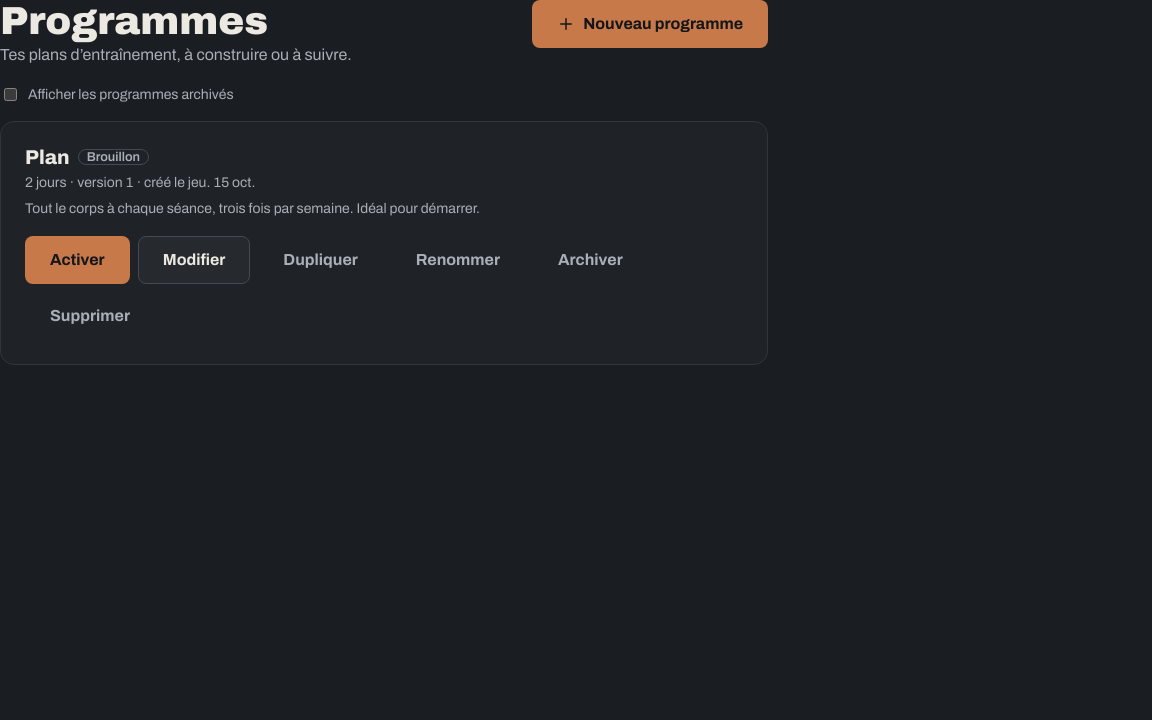
Test: ProgramsView › active un programme et planifie ses séances au calendrier
Click the button "Activer" at (77,260), box left=25, top=236, right=130, bottom=284
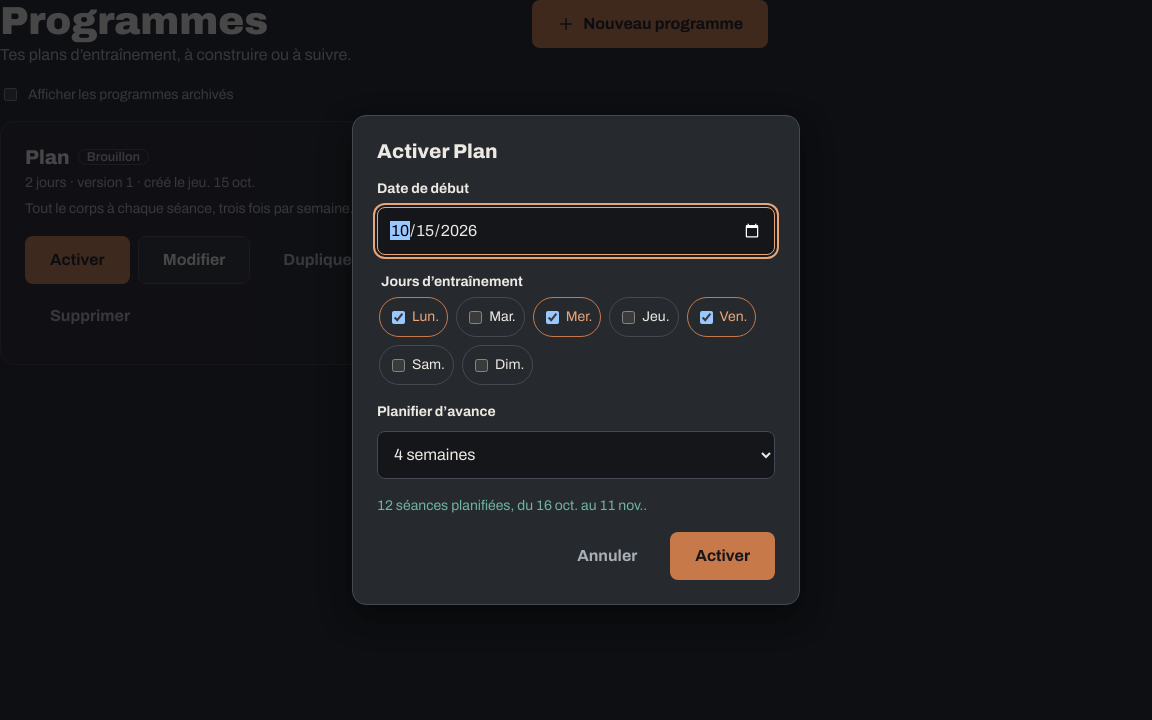
Expected: the dialog is shown, left=352, top=115, right=800, bottom=605
Type "2026-10-19" into the date field labelled "Date de début" at (576,231), box left=377, top=207, right=775, bottom=255
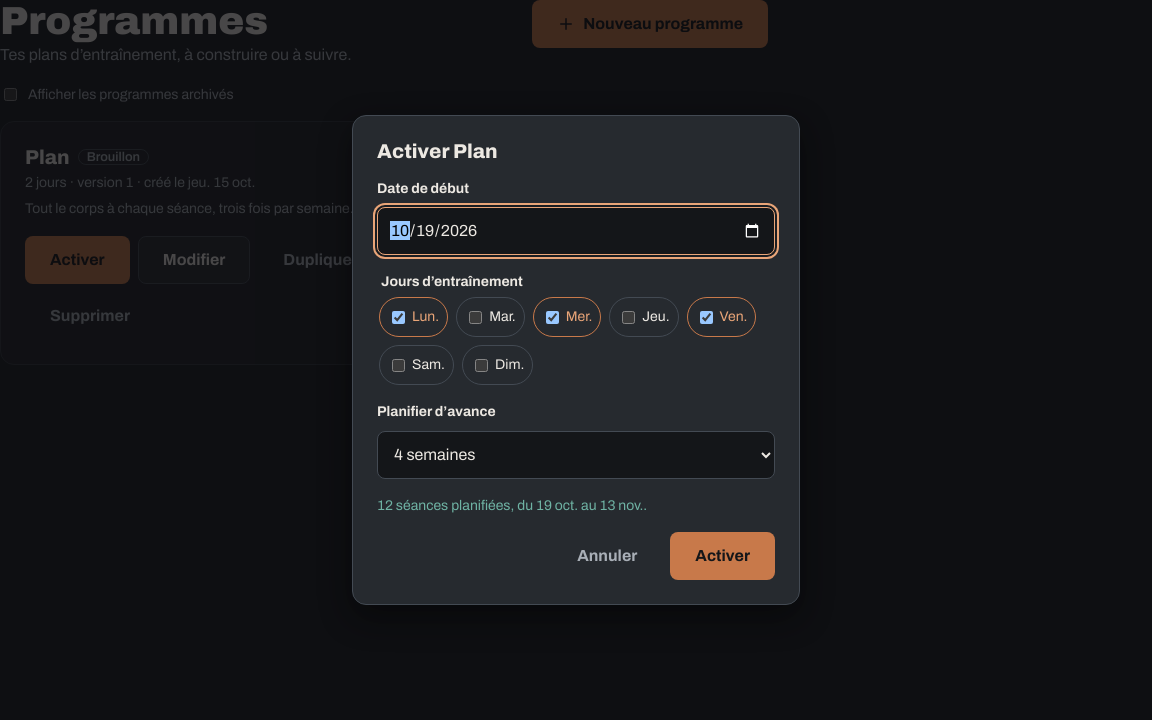
Expected: the dialog is shown, left=352, top=115, right=800, bottom=605
Expected: the dialog shows "12 séances planifiées, du 19 oct. au 13 nov.", left=377, top=498, right=647, bottom=513
Click the button "Activer" at (723,556), box left=670, top=532, right=775, bottom=580
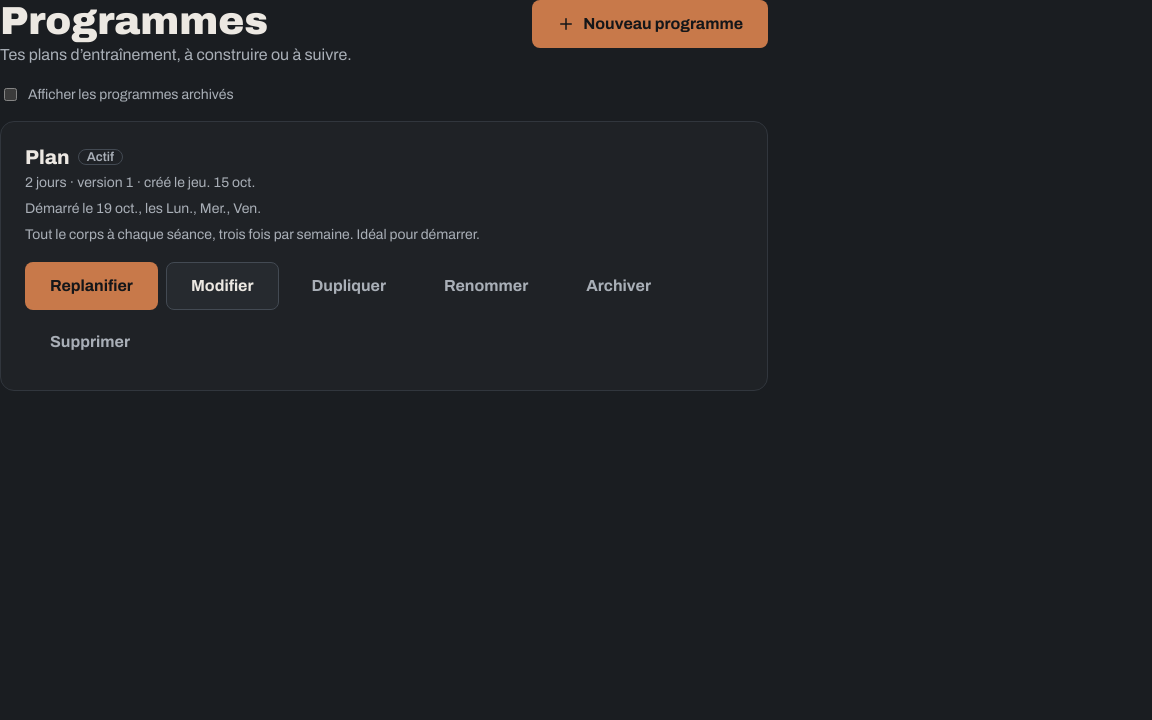
Expected: the heading "Plan Actif" is shown, left=25, top=146, right=123, bottom=168
Expected: the text "Démarré le 19 oct., les Lun., Mer., Ven." is shown, left=25, top=201, right=261, bottom=216
